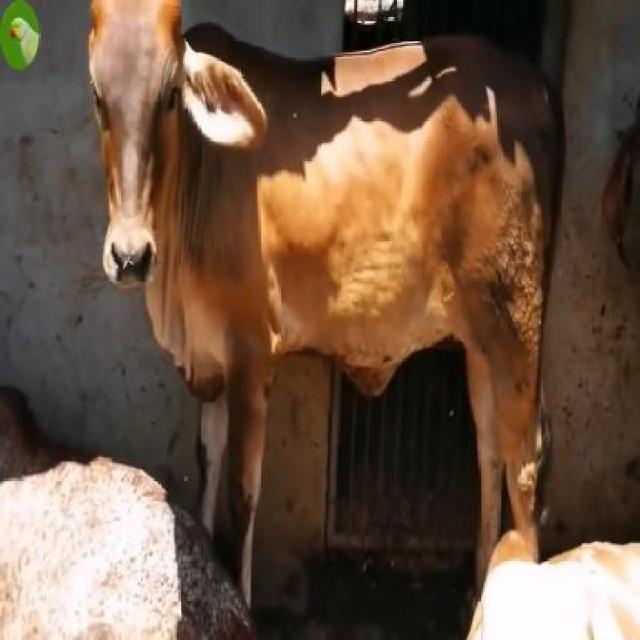Cow: (85, 2, 566, 623)
